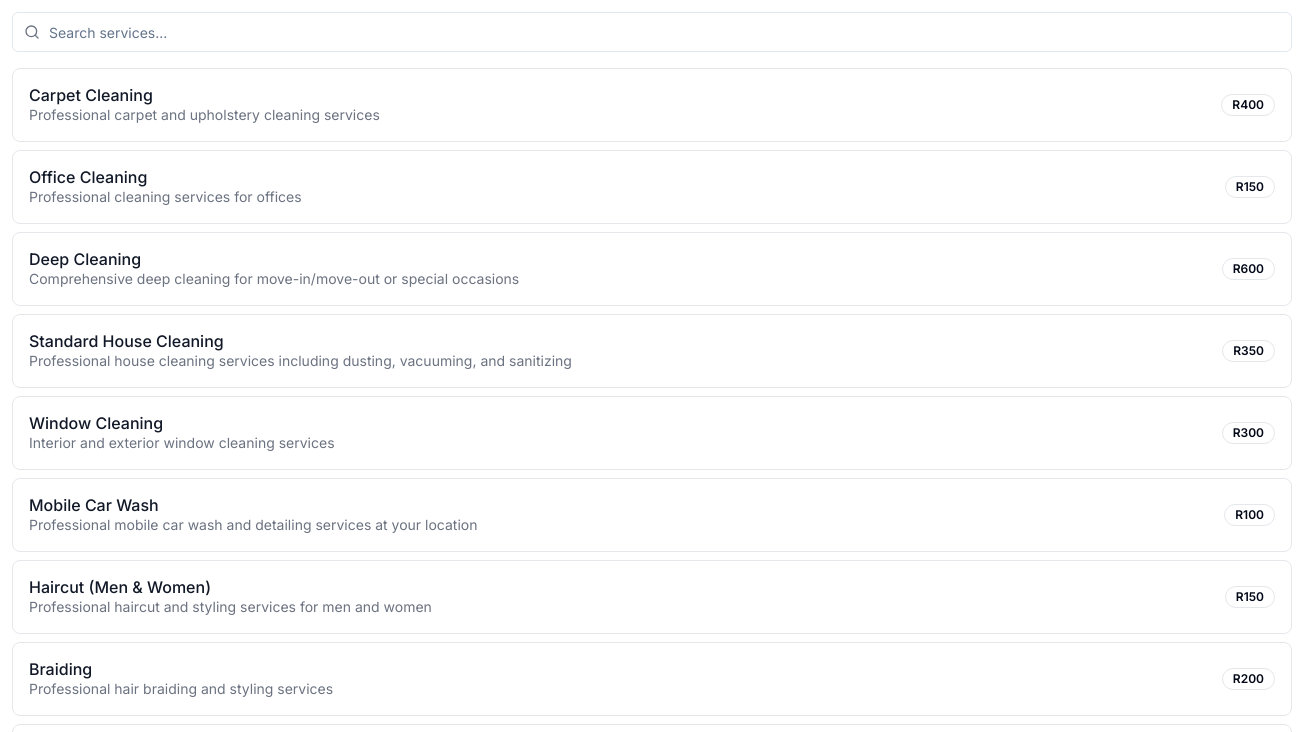
Test: ServiceSelector Component › handles search functionality
# Search for a specific service
In the field with placeholder "Search services...": (652, 32) [12,12,1292,52], type "Carpet Cleaning"
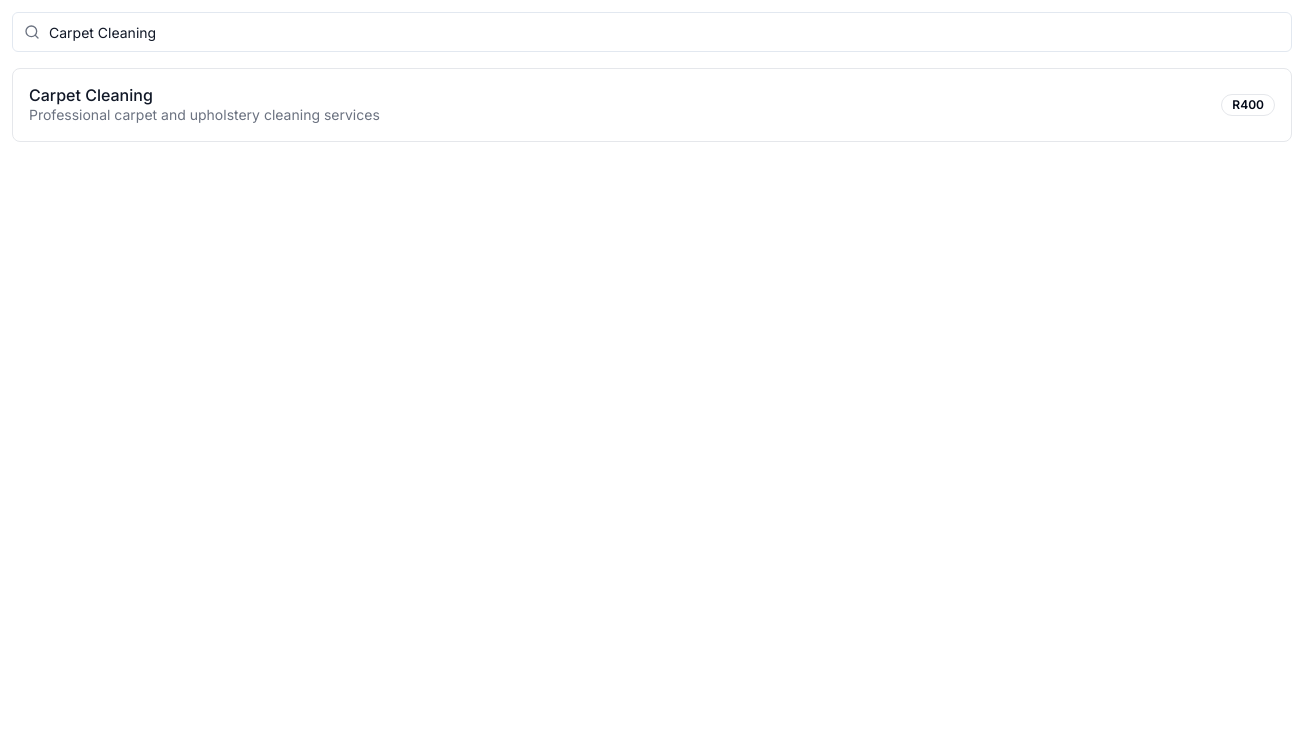
Check: the heading "Office Cleaning" is gone
Check: the heading "Deep Cleaning" is gone
Check: the heading "Standard House Cleaning" is gone
